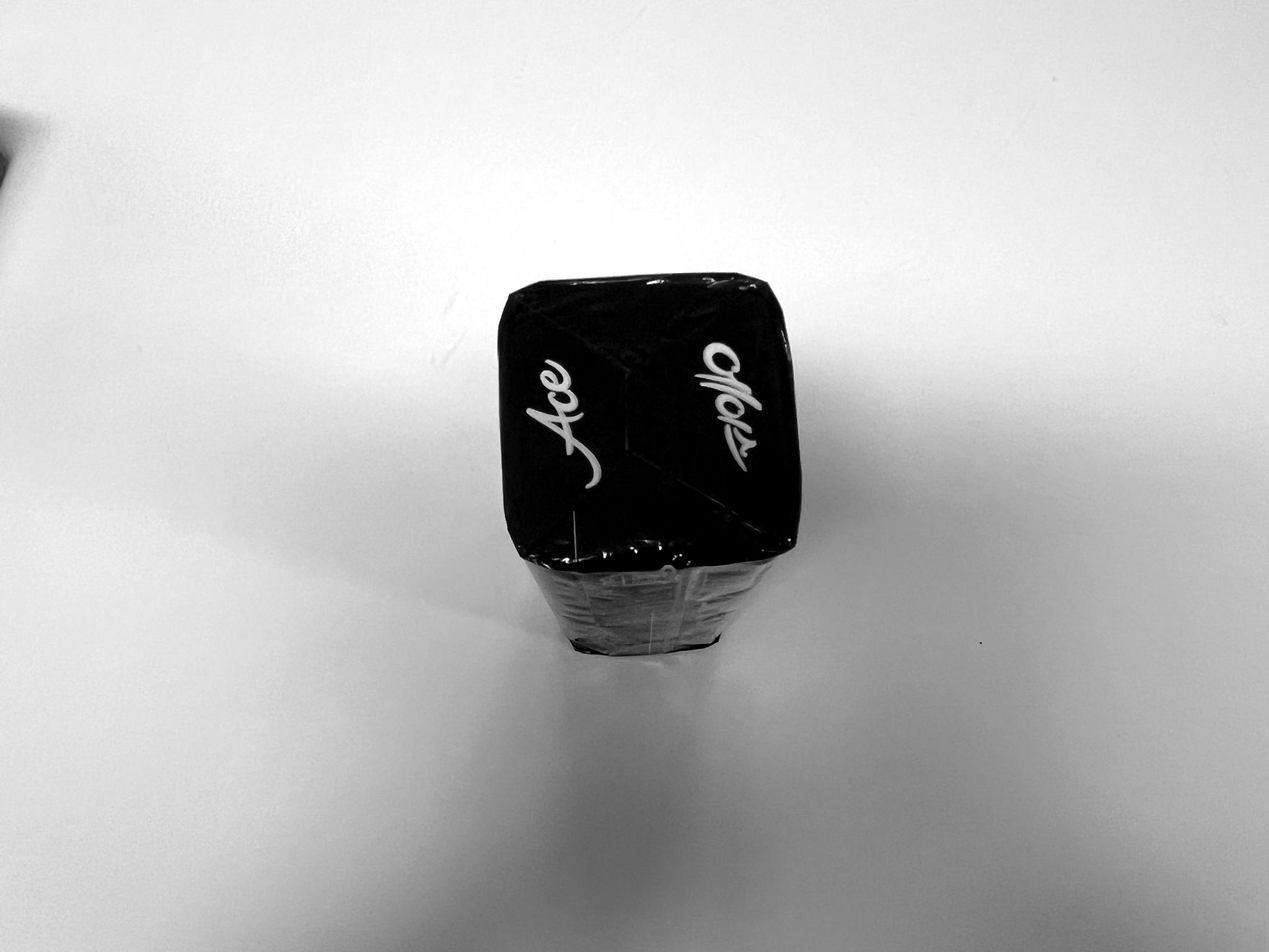cracker_ace: (496, 274, 801, 655)
